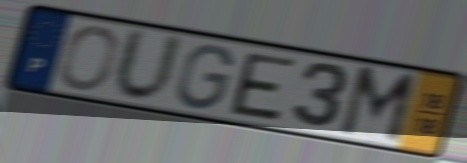3: (290, 61, 354, 131)
E: (228, 50, 300, 124)
G: (174, 42, 237, 112)
M: (335, 64, 422, 148)
O: (56, 24, 123, 93)
U: (110, 24, 187, 106)
